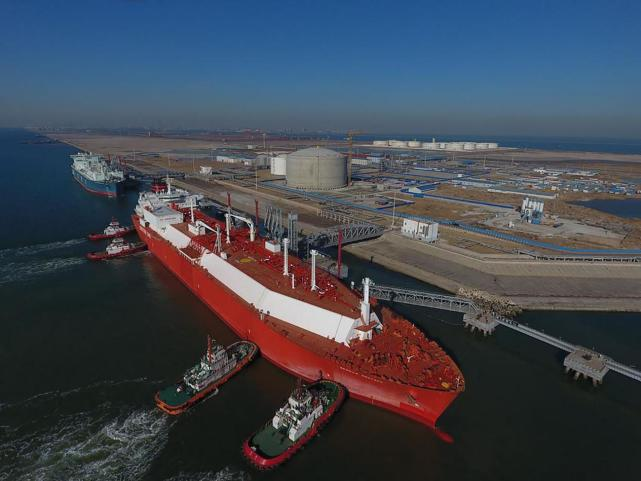Cargoship: (132, 179, 478, 448), (70, 147, 122, 203)
otherboat: (246, 378, 345, 469), (148, 337, 260, 414), (86, 231, 151, 264), (85, 219, 139, 242)
